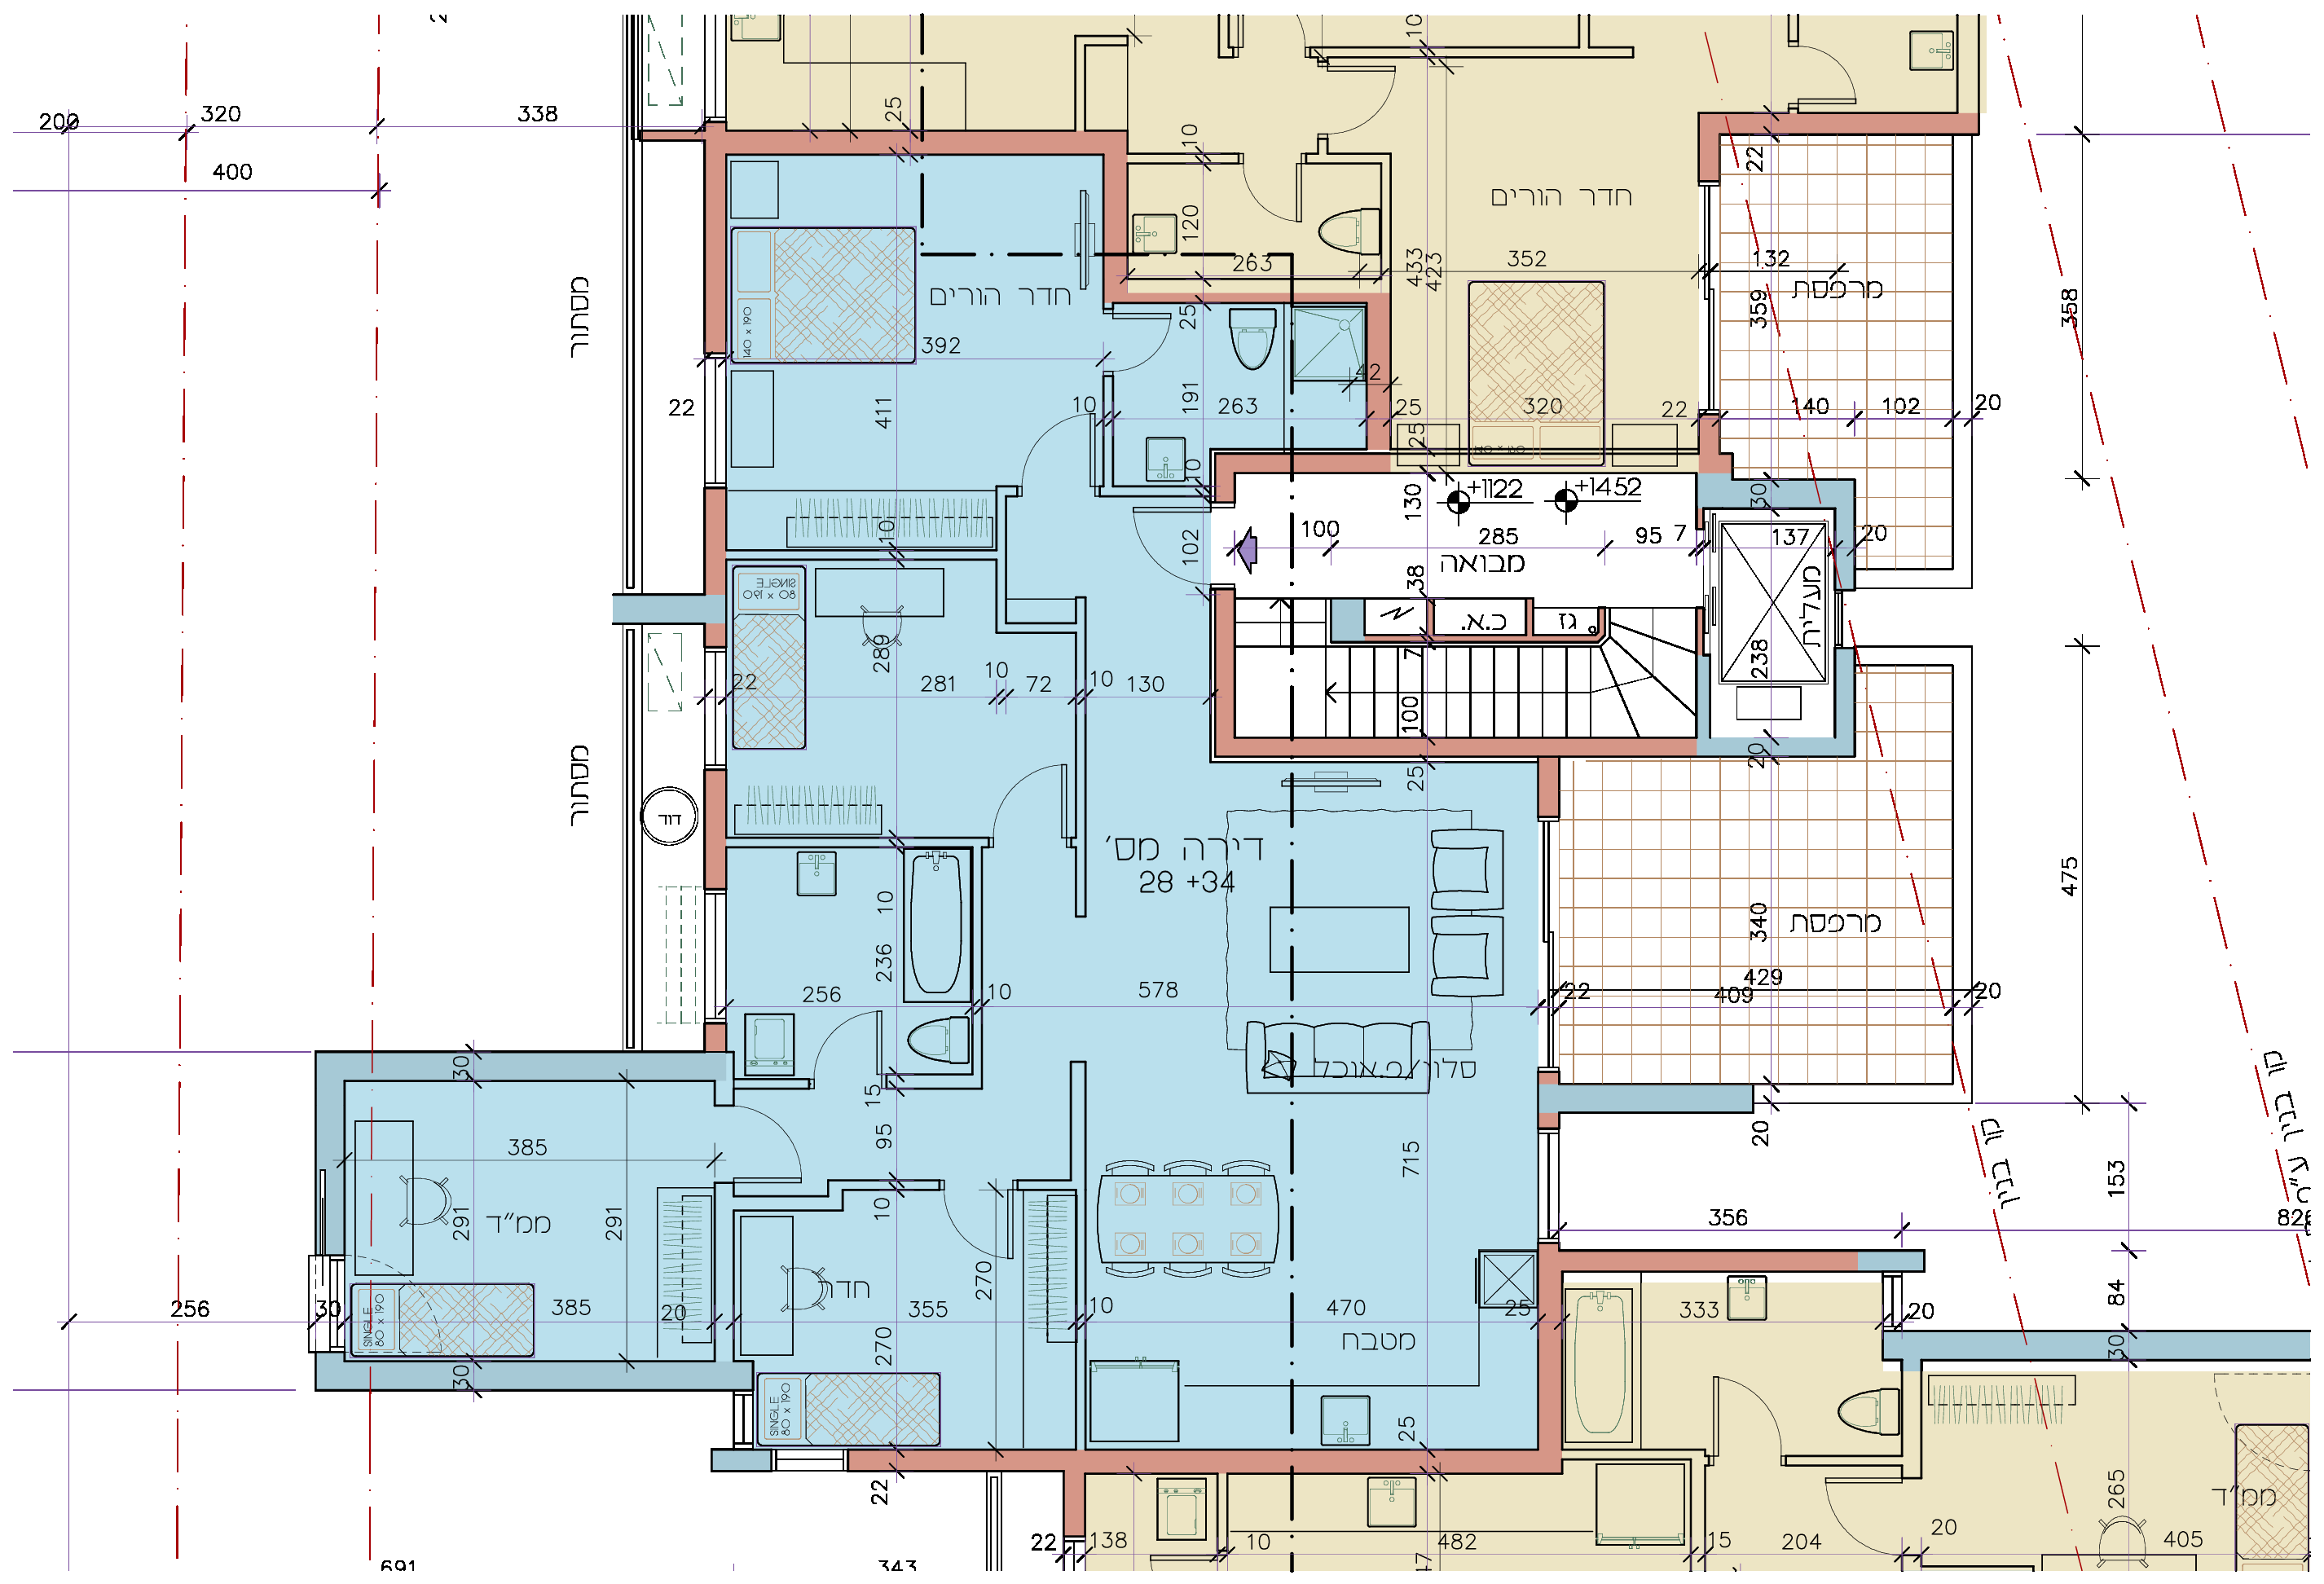door: (1014, 399, 1102, 486), (984, 745, 1072, 832), (735, 1100, 823, 1187), (932, 1192, 1019, 1270), (1702, 1372, 1789, 1450), (1127, 503, 1204, 585), (1332, 60, 1404, 147), (805, 1008, 888, 1079), (1116, 307, 1183, 383), (1236, 166, 1309, 230), (1803, 42, 1861, 109)
wall: (320, 1051, 735, 1079), (724, 129, 1125, 157), (851, 1446, 1302, 1469), (1213, 736, 1699, 758), (1695, 111, 1980, 138)
window: (1701, 184, 1720, 413), (1533, 1128, 1561, 1243), (705, 888, 726, 1022), (706, 357, 726, 489), (706, 643, 726, 775), (772, 1448, 849, 1475), (735, 1386, 751, 1448)
